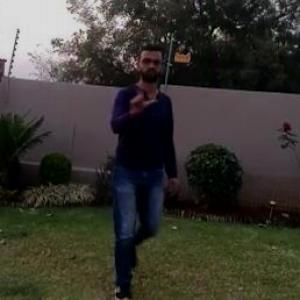land_hand: (125, 76, 158, 118)
